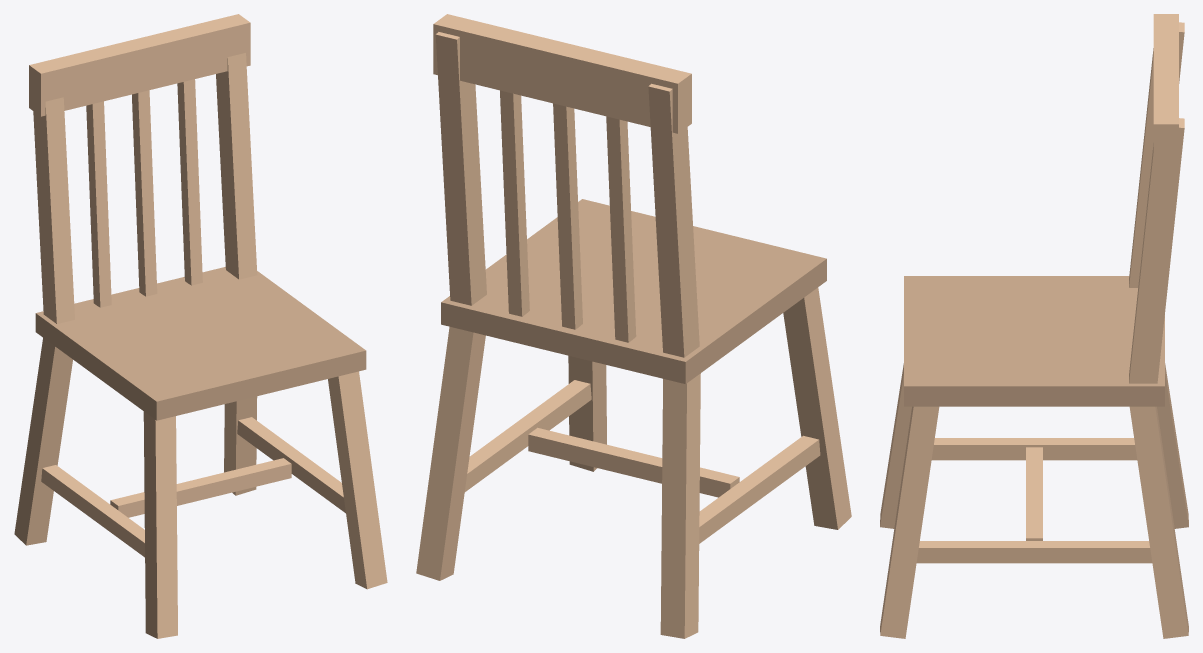
The model's file is chairSpindle.glb.
3 views of the same model, side by side, from view 1: azimuth 30°, elevation 25°; view 2: azimuth 150°, elevation 25°; view 3: azimuth 270°, elevation 25° (orthographic). The views are drawn at different scales.
Parts seen in each view (by area): view 1: chairSpindle; view 2: chairSpindle; view 3: chairSpindle.
Part boxes in pixels (box(x1,y1,x2,y2)): chairSpindle: box(14, 14, 387, 638); chairSpindle: box(416, 14, 851, 638); chairSpindle: box(880, 14, 1188, 638).
Size of the model in its own units: 0.2524 by 0.4973 by 0.2725.
